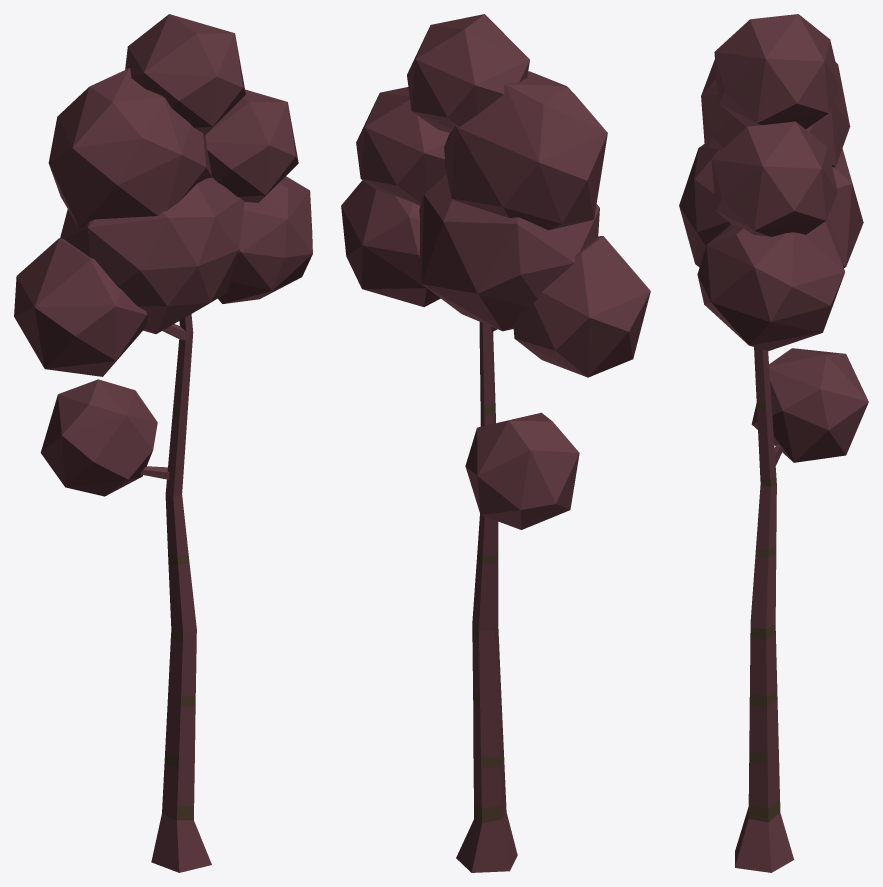
Rendered from tree-birch-tall.fbx.
The picture shows the model from 3 angles, left to right: view 1: azimuth 30°, elevation 25°; view 2: azimuth 150°, elevation 25°; view 3: azimuth 270°, elevation 25°; orthographic projection. The views are drawn at different scales.
Visible parts, largest first — view 1: tree-birch-tall; view 2: tree-birch-tall; view 3: tree-birch-tall.
Boxes of the visible parts, x1,y1,x2,y2 form: tree-birch-tall: (14, 14, 312, 872); tree-birch-tall: (341, 14, 650, 872); tree-birch-tall: (679, 14, 868, 872).
Size of the model in its own units: 3.76 by 10.35 by 2.1.
